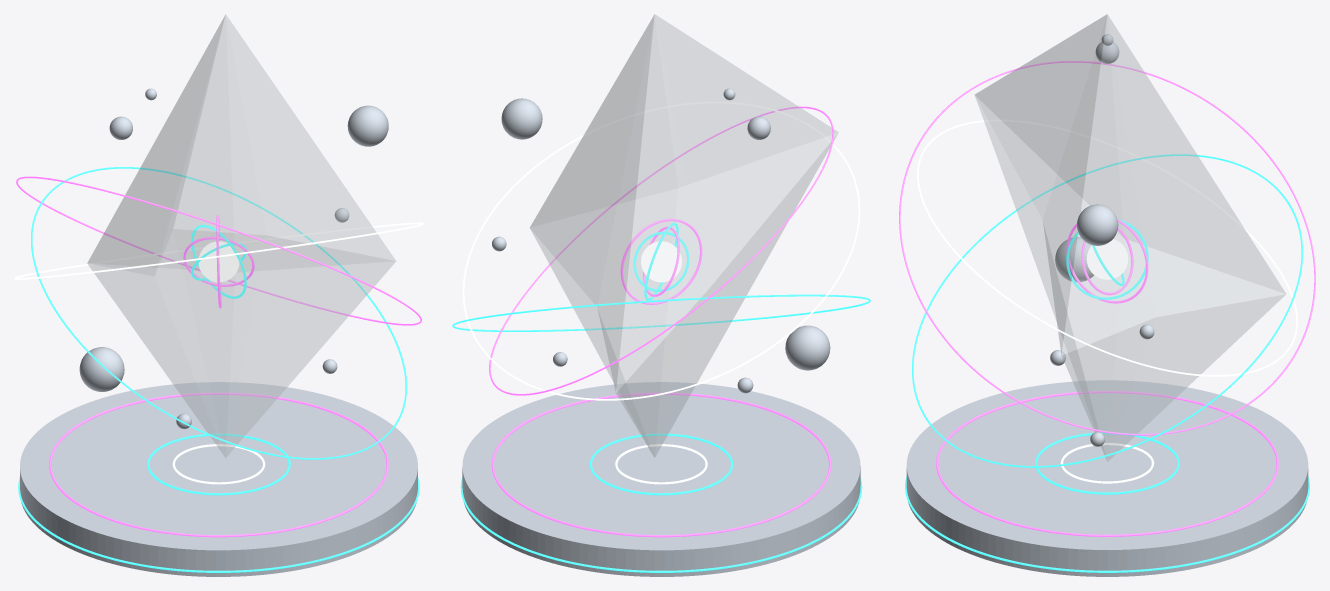
The model's file is quantum-crystal.glb.
The picture shows the model from 3 angles, left to right: view 1: azimuth 30°, elevation 25°; view 2: azimuth 150°, elevation 25°; view 3: azimuth 270°, elevation 25°; orthographic projection.
Visible parts, largest first — view 1: Sculpted star crystal with polished bevels, Circular polished display pedestal, Pedestal light ring (×4), Lower cyan orbit, Crossing magenta orbit, Upper ice orbit, Chrome satellite 00, Chrome satellite 01, White cyan energy heart; view 2: Sculpted star crystal with polished bevels, Circular polished display pedestal, Pedestal light ring (×4), Upper ice orbit, Crossing magenta orbit, Lower cyan orbit, Chrome satellite 00, Chrome satellite 01, White cyan energy heart, Plasma vortex 3; view 3: Sculpted star crystal with polished bevels, Circular polished display pedestal, Pedestal light ring (×4), Crossing magenta orbit, Lower cyan orbit, Upper ice orbit, Chrome satellite 01, White cyan energy heart, Chrome satellite 00, Plasma vortex 3, Plasma vortex 2.
Part boxes in pixels (box(x1,y1,x2,y2)): Sculpted star crystal with polished bevels: box(87, 14, 395, 457); Circular polished display pedestal: box(20, 382, 417, 576); Pedestal light ring (×4): box(18, 392, 419, 572); Lower cyan orbit: box(31, 167, 406, 459); Crossing magenta orbit: box(16, 176, 421, 325); Upper ice orbit: box(14, 222, 423, 279); Chrome satellite 00: box(79, 347, 124, 391); Chrome satellite 01: box(347, 105, 388, 146); White cyan energy heart: box(198, 241, 239, 282); Sculpted star crystal with polished bevels: box(530, 14, 838, 457); Circular polished display pedestal: box(462, 382, 860, 576); Pedestal light ring (×4): box(460, 392, 862, 572); Upper ice orbit: box(462, 101, 860, 400); Crossing magenta orbit: box(489, 106, 833, 395); Lower cyan orbit: box(452, 294, 870, 331); Chrome satellite 00: box(785, 325, 830, 370); Chrome satellite 01: box(501, 98, 542, 139); White cyan energy heart: box(641, 241, 681, 282); Plasma vortex 3: box(620, 218, 702, 304); Sculpted star crystal with polished bevels: box(975, 14, 1285, 461); Circular polished display pedestal: box(906, 380, 1308, 576); Pedestal light ring (×4): box(905, 391, 1309, 572); Crossing magenta orbit: box(899, 61, 1315, 435); Lower cyan orbit: box(912, 154, 1302, 467); Upper ice orbit: box(917, 119, 1297, 376); Chrome satellite 01: box(1077, 204, 1118, 245); White cyan energy heart: box(1086, 239, 1128, 279); Chrome satellite 00: box(1055, 237, 1093, 282); Plasma vortex 3: box(1066, 219, 1148, 303); Plasma vortex 2: box(1066, 219, 1148, 299).
Size of the model in its own units: 4.2 by 5.37 by 4.21.
